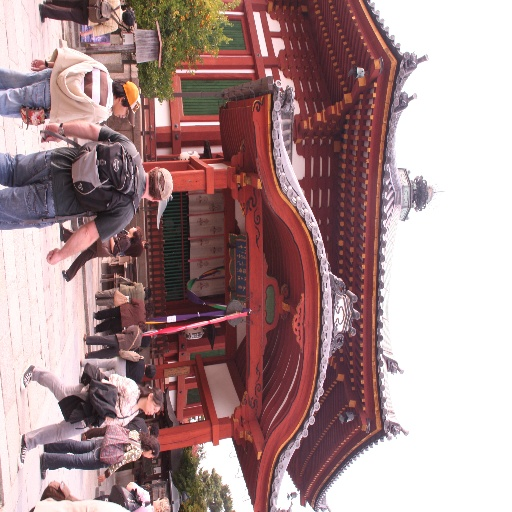hand: (40, 121, 61, 144), (29, 56, 47, 72), (44, 248, 59, 264), (97, 471, 106, 483), (104, 415, 114, 424), (79, 28, 88, 37)
